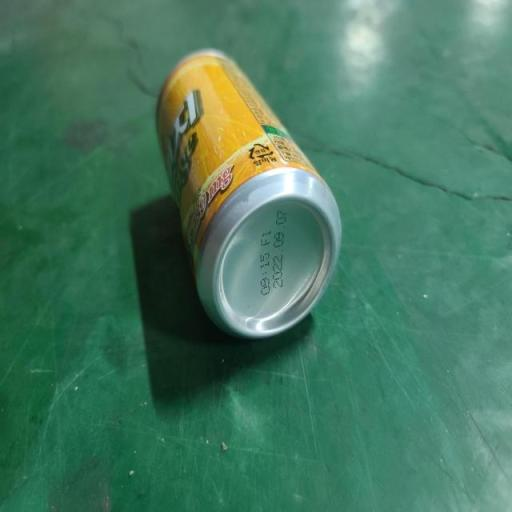metal: (137, 24, 362, 380)
